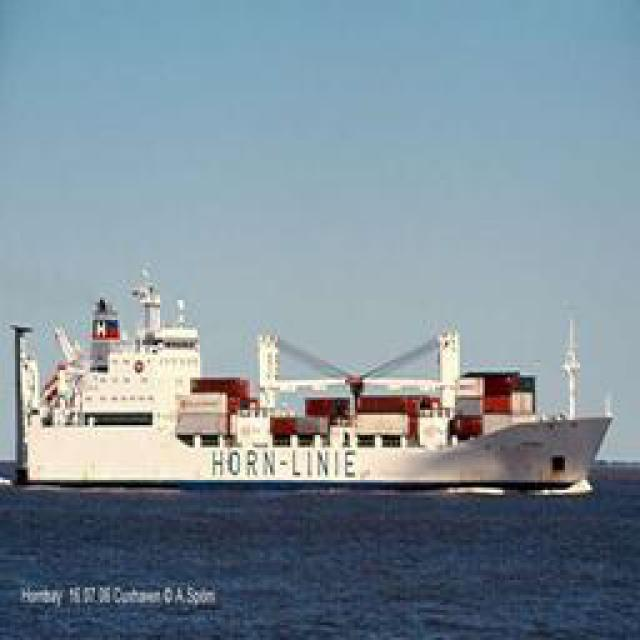Ship: (19, 266, 614, 496)
